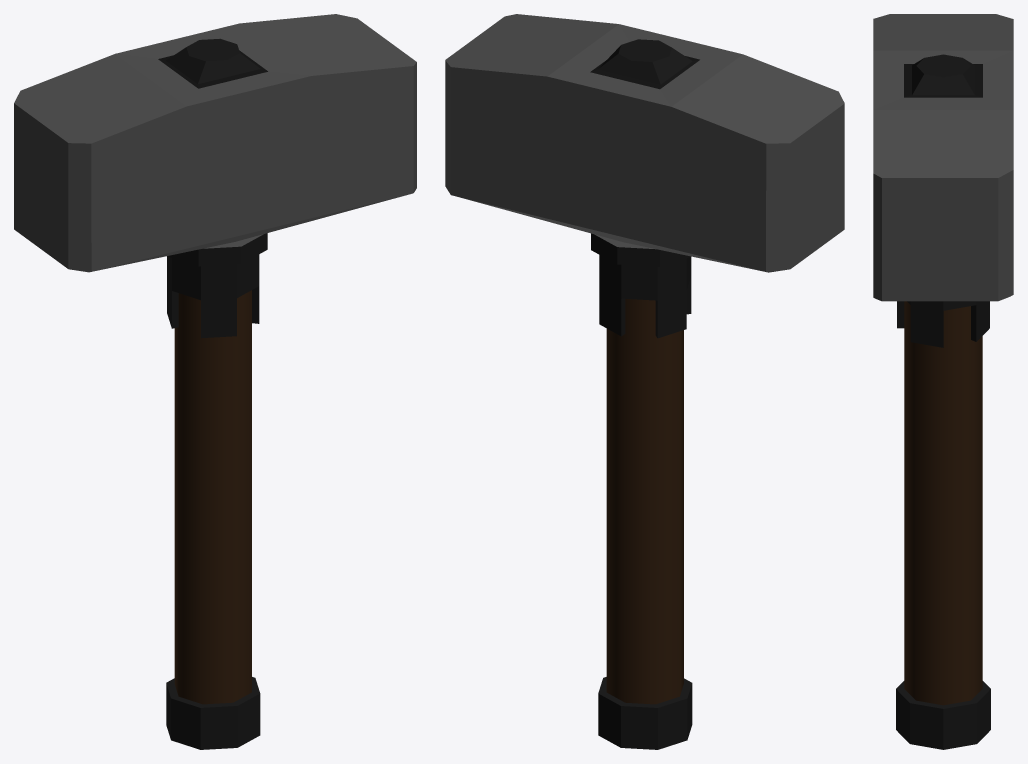
The model's file is Hammer_Small_001.fbx.
The picture shows the model from 3 angles, left to right: view 1: azimuth 30°, elevation 25°; view 2: azimuth 150°, elevation 25°; view 3: azimuth 270°, elevation 25°; orthographic projection. The views are drawn at different scales.
Parts seen in each view (by area): view 1: Hammer_Small.001; view 2: Hammer_Small.001; view 3: Hammer_Small.001.
Part boxes in pixels (x1,y1,x2,y2): Hammer_Small.001: [14, 14, 416, 749]; Hammer_Small.001: [445, 14, 844, 749]; Hammer_Small.001: [873, 14, 1013, 749].
Bounding box in the file's own units: 0.8291 × 1.56 × 0.2993.
